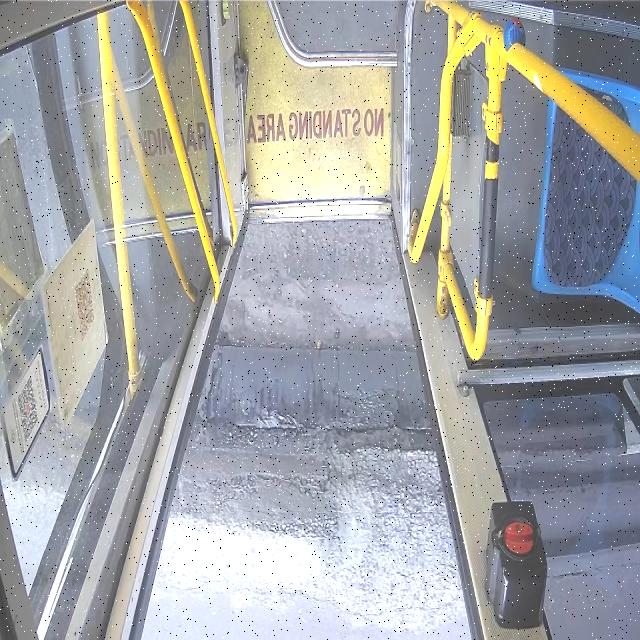open: (108, 209, 445, 639)
